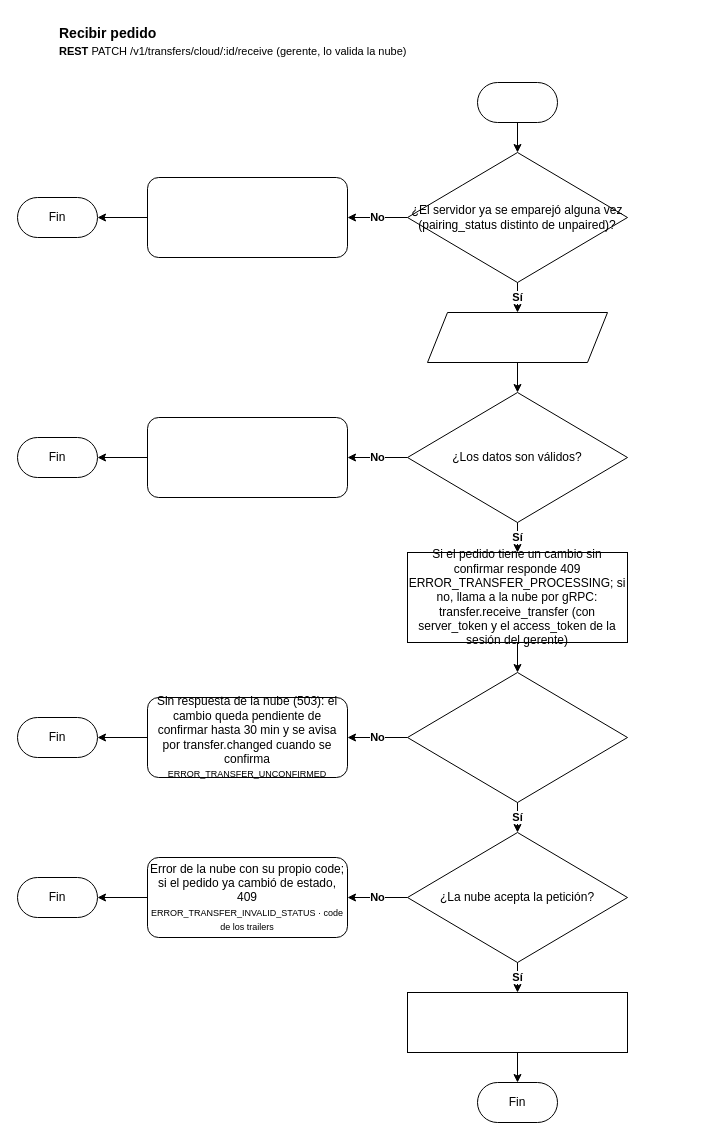
This 715x1140 diagram has some shape labels left out. The centre of each missing label's shape, as x and y in pixels:
"Datos inválidos (400) ERROR_BAD_REQUEST" belongs at [247,457].
"Inicio" belongs at [517,102].
"Recibir datos" belongs at [517,337].
"Responder 200 con el mensaje TRANSFER_RECEIVED" belongs at [517,1022].
"Servidor sin emparejar (409) ERROR_SERVER_NOT_PAIRED" belongs at [247,217].
"¿La nube responde antes de 10 s?" belongs at [517,737].
